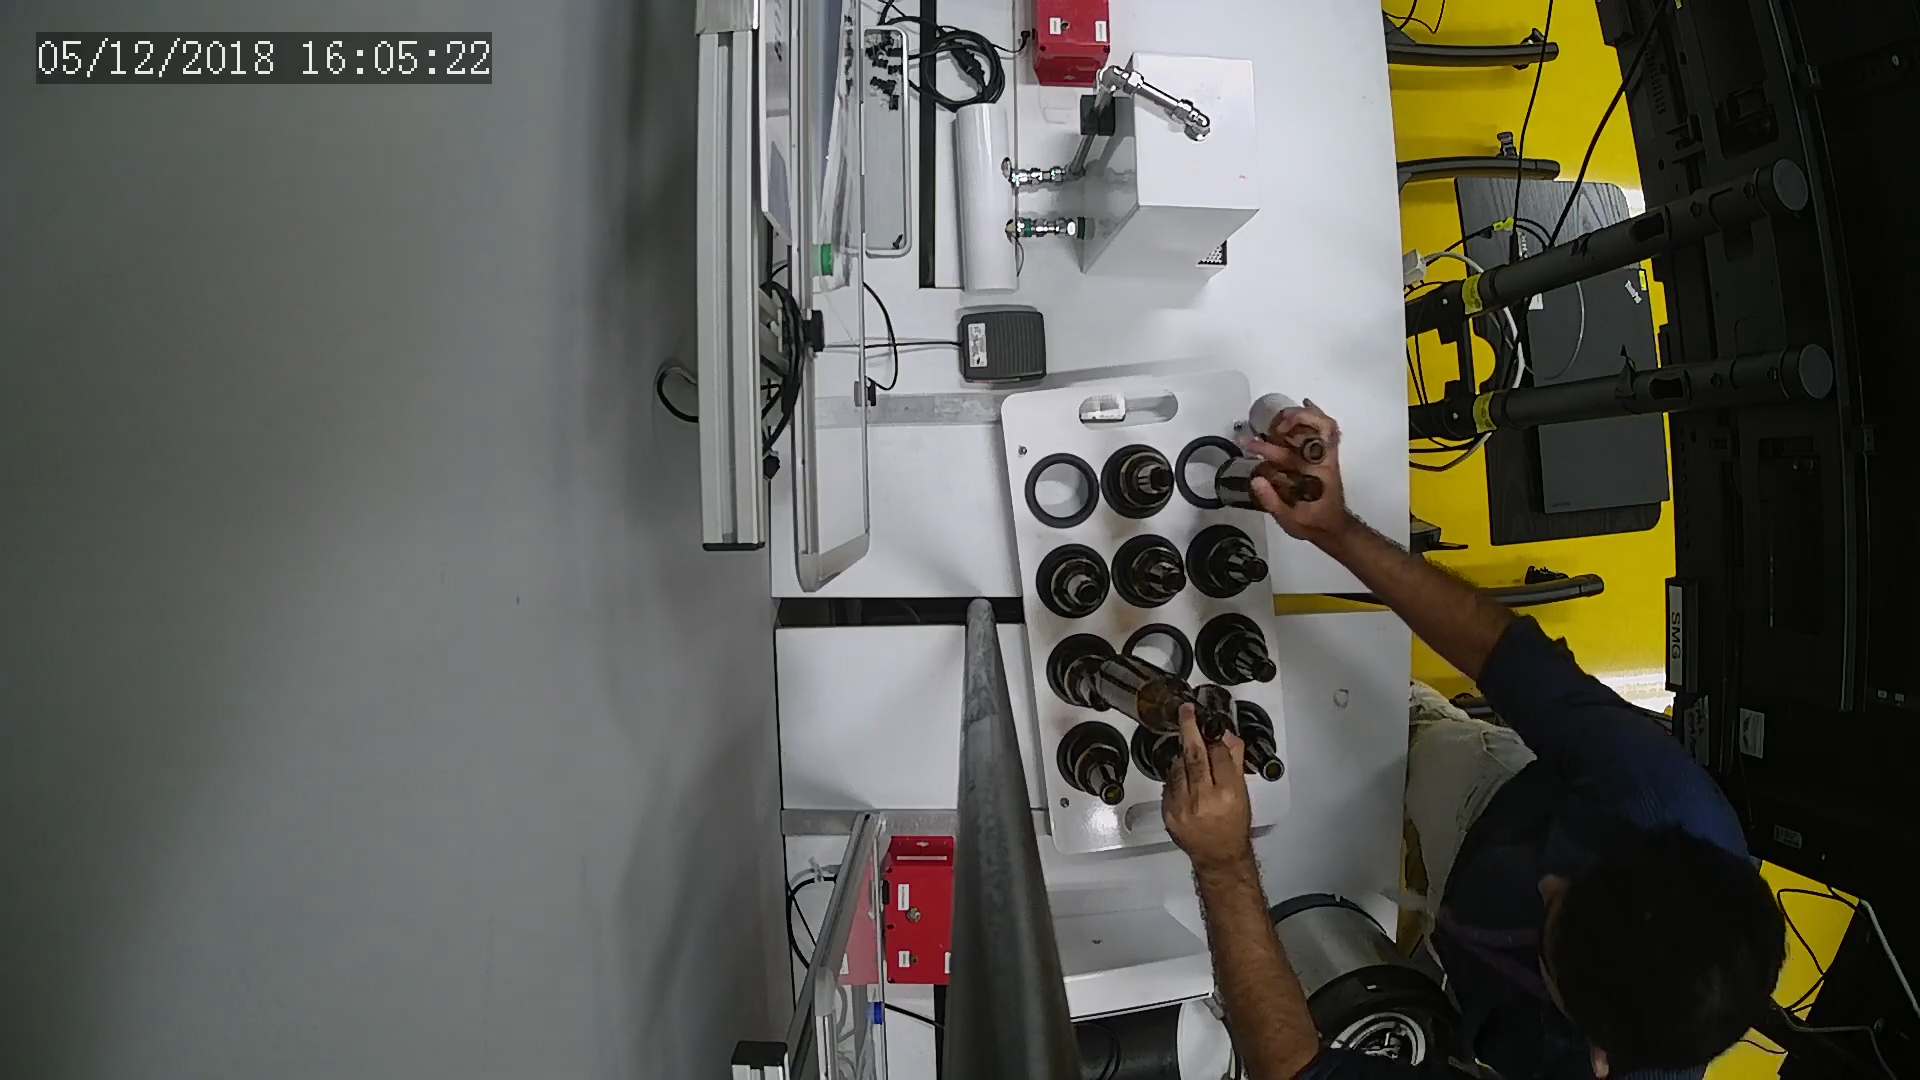filled_bottle: (1058, 724, 1131, 815), (1199, 615, 1283, 691), (1189, 524, 1270, 599), (1218, 699, 1284, 790), (1106, 440, 1178, 522), (1110, 535, 1187, 611), (1036, 545, 1108, 622), (1051, 636, 1118, 715)
trolley: (993, 368, 1303, 855)
